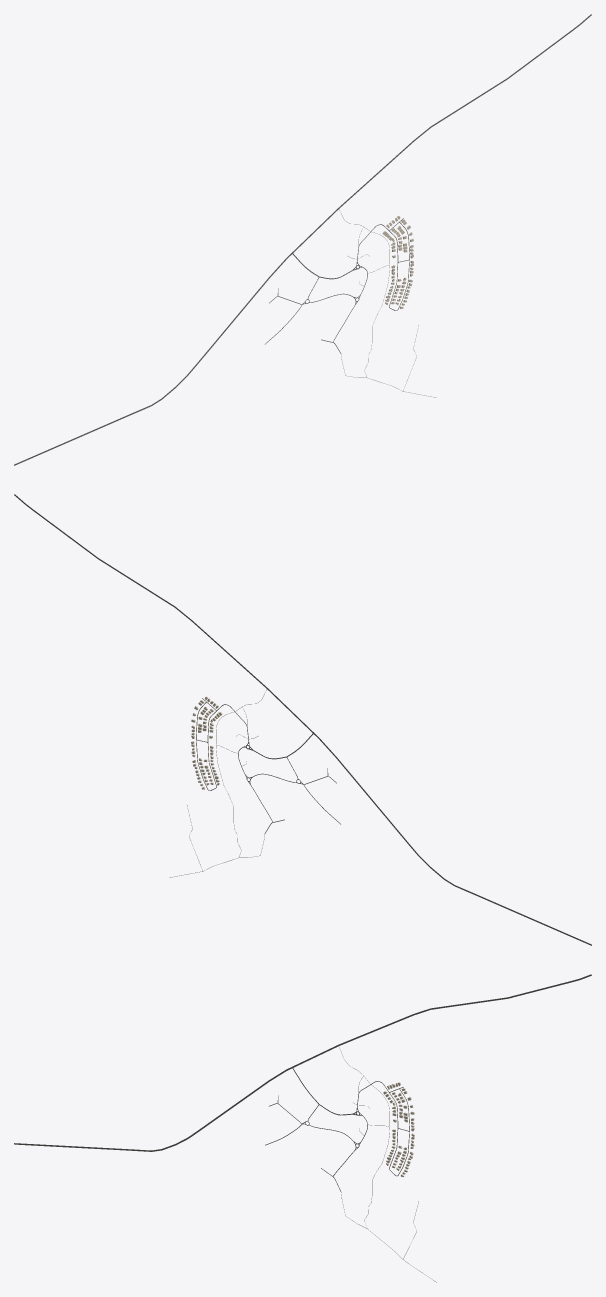
Rendered from historic-palestine-05_21_3468_3157.glb.
3 renders of one model, top to bottom at view 1: azimuth 30°, elevation 25°; view 2: azimuth 150°, elevation 25°; view 3: azimuth 330°, elevation 25°, orthographic.
Visible parts, largest first — view 1: Road 352; view 2: Road 352; view 3: Road 352.
Boxes of the visible parts, bbox=[...] form: Road 352: bbox=[14, 14, 591, 465]; Road 352: bbox=[14, 494, 591, 945]; Road 352: bbox=[14, 974, 591, 1151].
Bounding box in the file's own units: 3362 × 1924 × 8.7.
